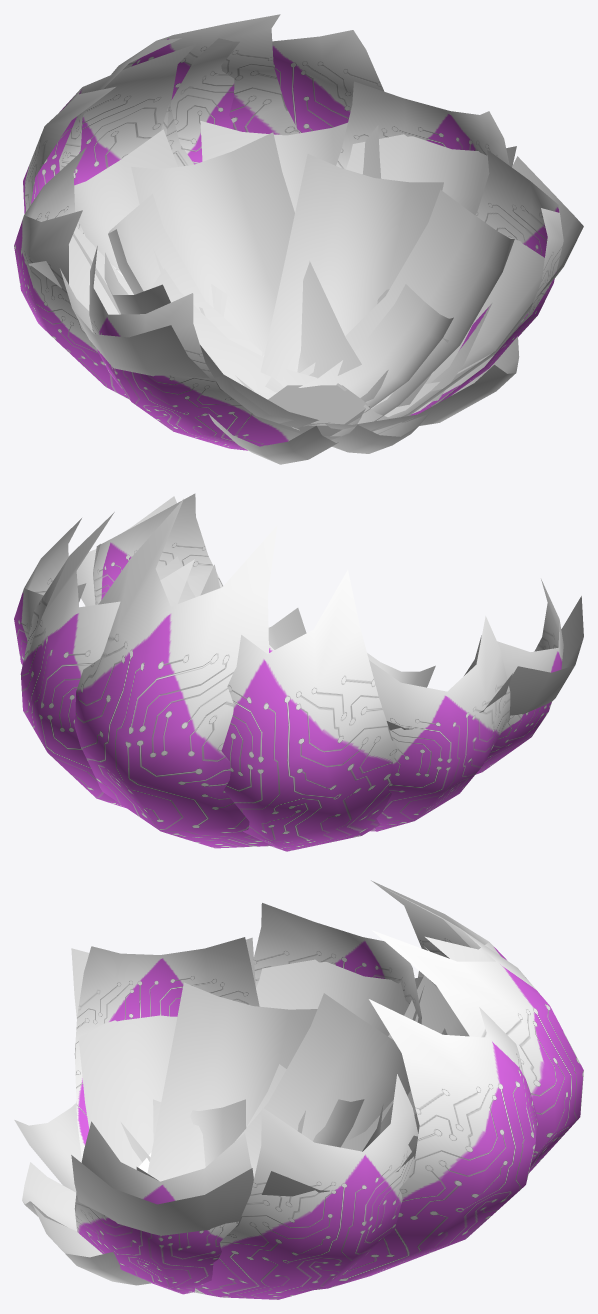
The model's file is Altar01_Art.fbx.
3 renders of one model, top to bottom at view 1: azimuth 30°, elevation 25°; view 2: azimuth 150°, elevation 25°; view 3: azimuth 270°, elevation 25°, orthographic. The views are drawn at different scales.
Visible parts, largest first — view 1: Altar01_Art; view 2: Altar01_Art; view 3: Altar01_Art.
Boxes of the visible parts, x1,y1,x2,y2 form: Altar01_Art: [14, 14, 583, 464]; Altar01_Art: [14, 493, 583, 851]; Altar01_Art: [14, 880, 583, 1299].
Size of the model in its own units: 7.34 by 5.12 by 7.3.
